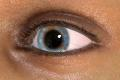eye: (38, 27, 70, 52)
